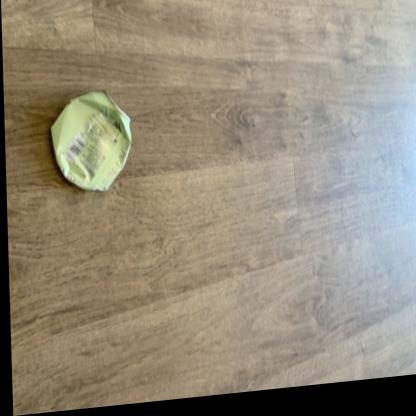trash: (51, 91, 131, 190)
